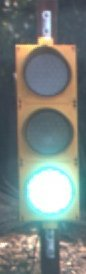Green: (8, 31, 86, 239)
